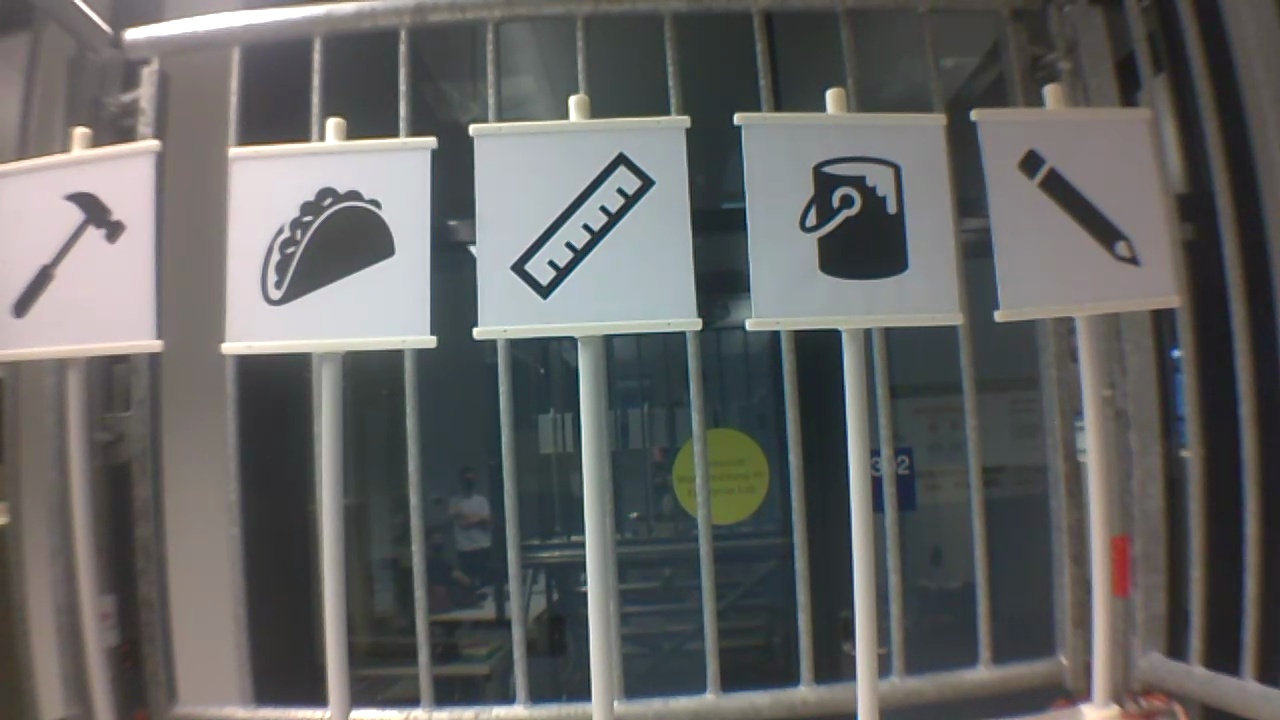bucket: (792, 152, 916, 285)
hammer: (4, 183, 134, 320)
pencil: (1008, 142, 1147, 279)
ruler: (504, 144, 668, 303)
taco: (252, 180, 402, 313)
